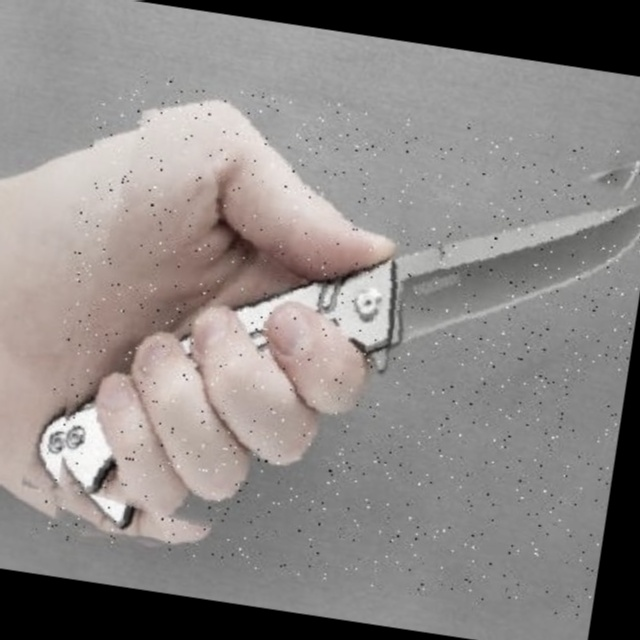Sharp-Object: (32, 67, 640, 618)
